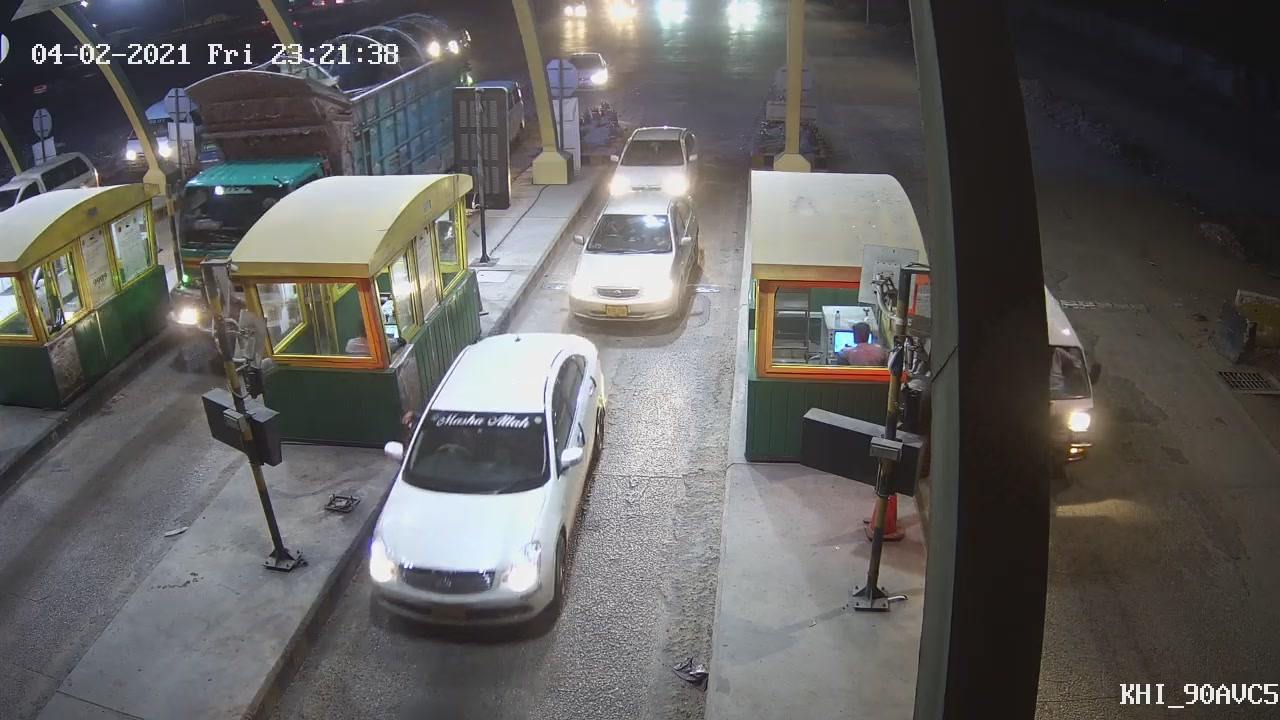F1: (360, 329, 605, 630), (551, 191, 714, 325)
